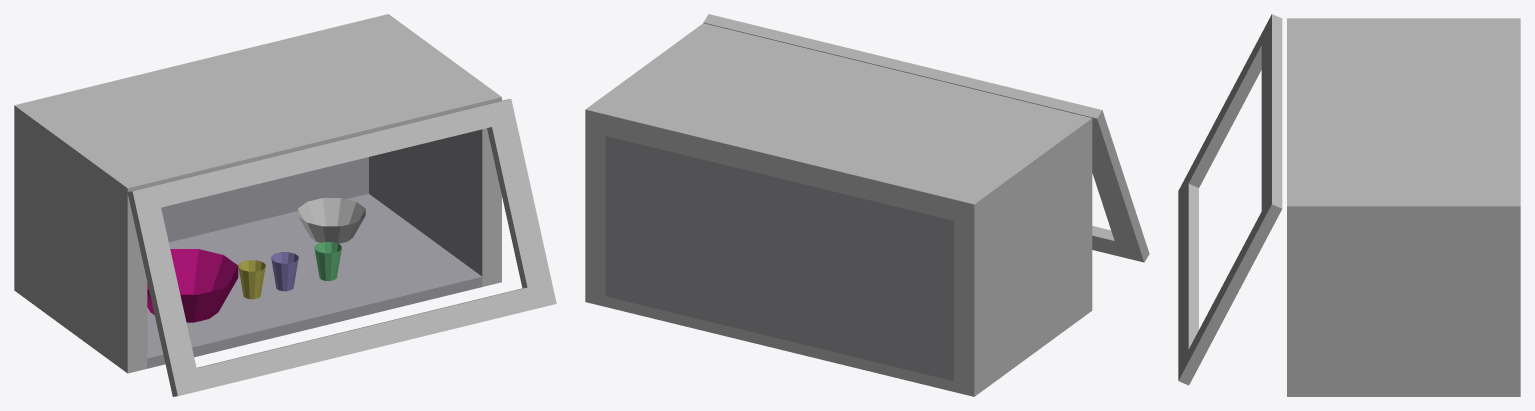
Rendered from sweethome3d-contributions-upper-cabinet-143.glb.
3 renders of one model, left to right at view 1: azimuth 30°, elevation 25°; view 2: azimuth 150°, elevation 25°; view 3: azimuth 270°, elevation 25°, orthographic. The views are drawn at different scales.
Visible parts, largest first — view 1: Cube_Cube_Material_Ma_Cube_Cube_Material_Ma_Material, Cube_Cube_Material.00_Cube_Cube_Material.00_Material.001, Circle_Circle.004_Circle_Circle.004_Material.002, Circle.007_Circle_Cir_Circle.007_Circle_Cir_Material, Circle_Circle.004_Cir_Circle_Circle.004_Cir_Material.002, Circle.007_Circle_Circle.007_Circle_Material, Circle.001_Circle_Circle.001_Circle_Material.005, Circle.002_Circle_Circle.002_Circle_Material.003, Circle.006_Circle_Circle.006_Circle_Material.004; view 2: Cube_Cube_Material_Ma_Cube_Cube_Material_Ma_Material, Cube_Cube_Material.00_Cube_Cube_Material.00_Material.001; view 3: Cube_Cube_Material_Ma_Cube_Cube_Material_Ma_Material.
Boxes of the visible parts, left/top/right/bottom form: Cube_Cube_Material_Ma_Cube_Cube_Material_Ma_Material: left=14, top=14, right=556, bottom=396; Cube_Cube_Material.00_Cube_Cube_Material.00_Material.001: left=147, top=129, right=482, bottom=368; Circle_Circle.004_Circle_Circle.004_Material.002: left=147, top=249, right=238, bottom=294; Circle.007_Circle_Cir_Circle.007_Circle_Cir_Material: left=298, top=198, right=365, bottom=226; Circle_Circle.004_Cir_Circle_Circle.004_Cir_Material.002: left=147, top=278, right=237, bottom=322; Circle.007_Circle_Circle.007_Circle_Material: left=298, top=216, right=364, bottom=243; Circle.001_Circle_Circle.001_Circle_Material.005: left=238, top=267, right=265, bottom=299; Circle.002_Circle_Circle.002_Circle_Material.003: left=271, top=259, right=298, bottom=291; Circle.006_Circle_Circle.006_Circle_Material.004: left=314, top=249, right=341, bottom=280; Cube_Cube_Material_Ma_Cube_Cube_Material_Ma_Material: left=585, top=14, right=1149, bottom=396; Cube_Cube_Material.00_Cube_Cube_Material.00_Material.001: left=605, top=136, right=953, bottom=381; Cube_Cube_Material_Ma_Cube_Cube_Material_Ma_Material: left=1178, top=14, right=1520, bottom=396.
Size of the model in its own units: 3.85 by 1.83 by 2.93.
